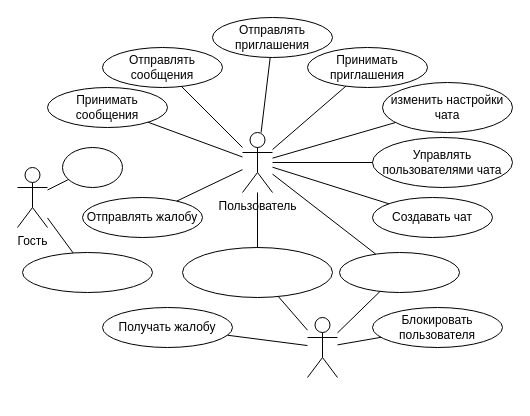
This 530x416 diagram has some shape labels left out. The centre of each missing label's shape, as x and y in pixels:
"Администратор" belongs at pixel 322 347.
"Войти" belongs at pixel 92 167.
"Выходить из учетной записи" belongs at pixel 257 272.
"Зарегистрироваться" belongs at pixel 87 272.
"Удалять чат" belongs at pixel 399 272.
